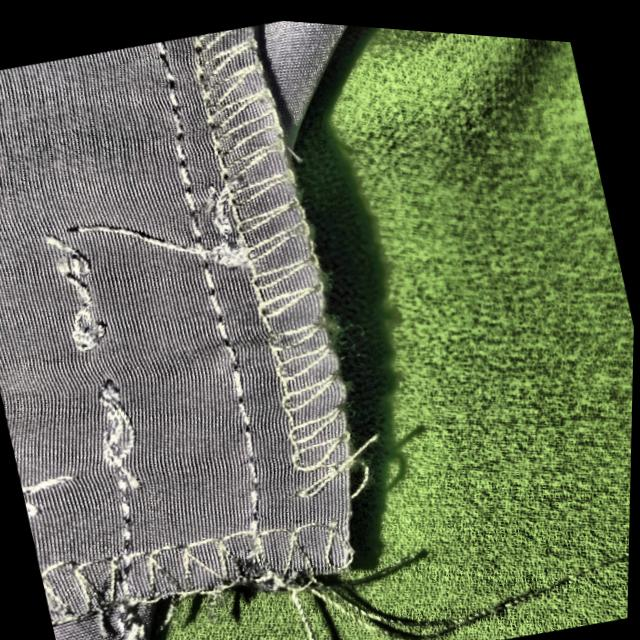Stitch: (267, 403, 403, 573), (45, 312, 167, 468)
